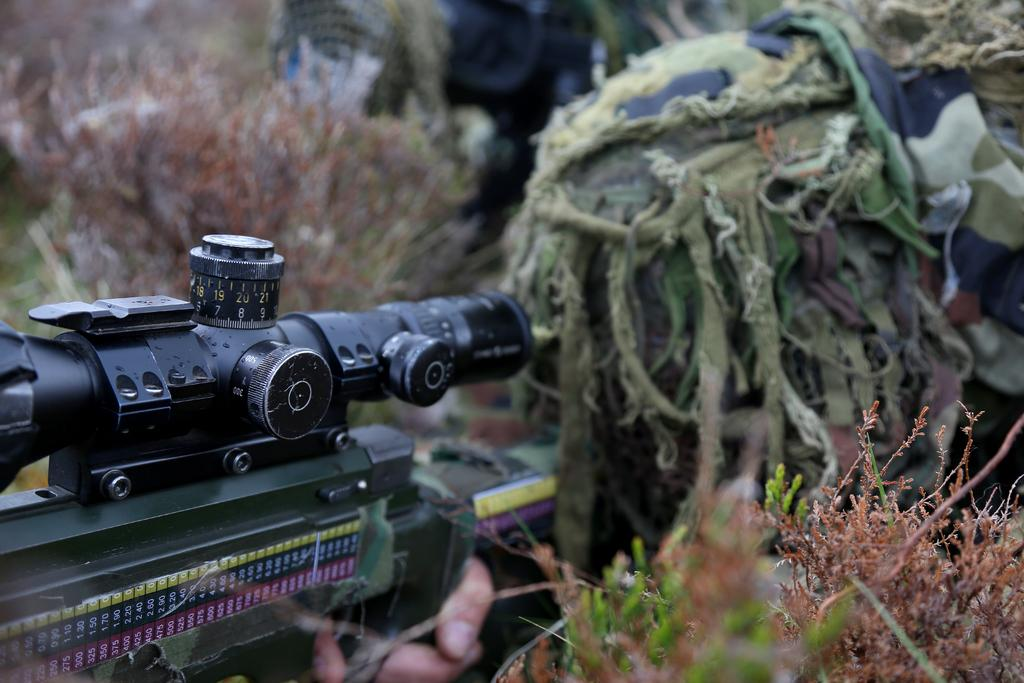Rifle: (0, 224, 595, 682)
